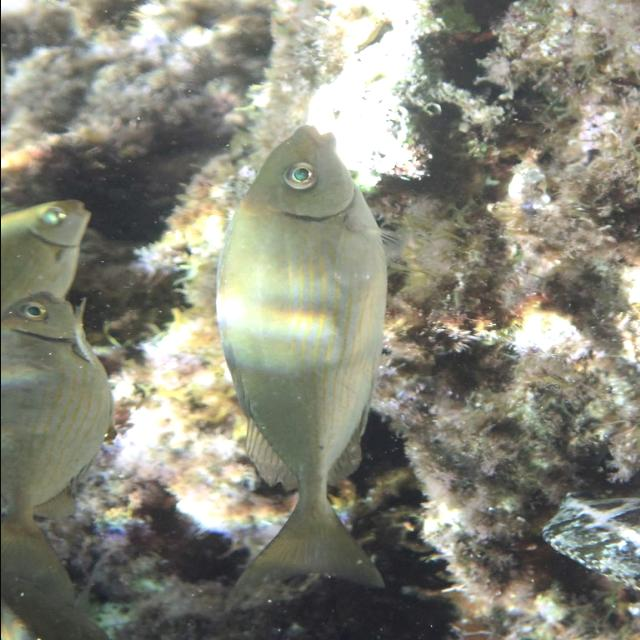Sokar Baligi: (201, 120, 411, 600)
